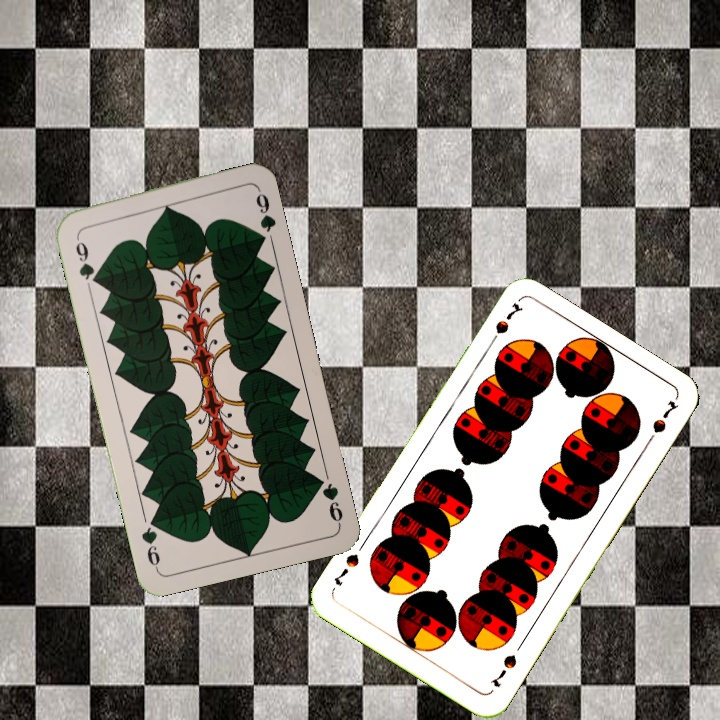G9: (311, 472, 346, 527), (71, 230, 101, 287)
S7: (484, 298, 526, 351), (487, 650, 520, 690)
